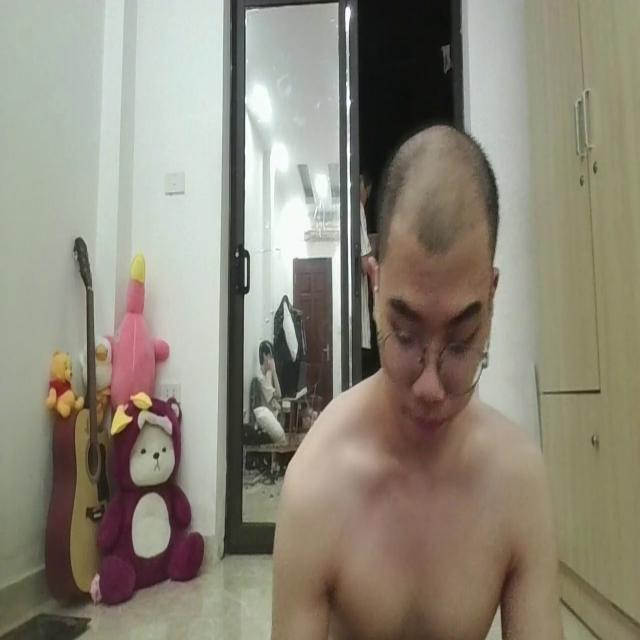extra_person: (354, 145, 384, 373), (238, 335, 298, 442)
student: (262, 102, 564, 640)
